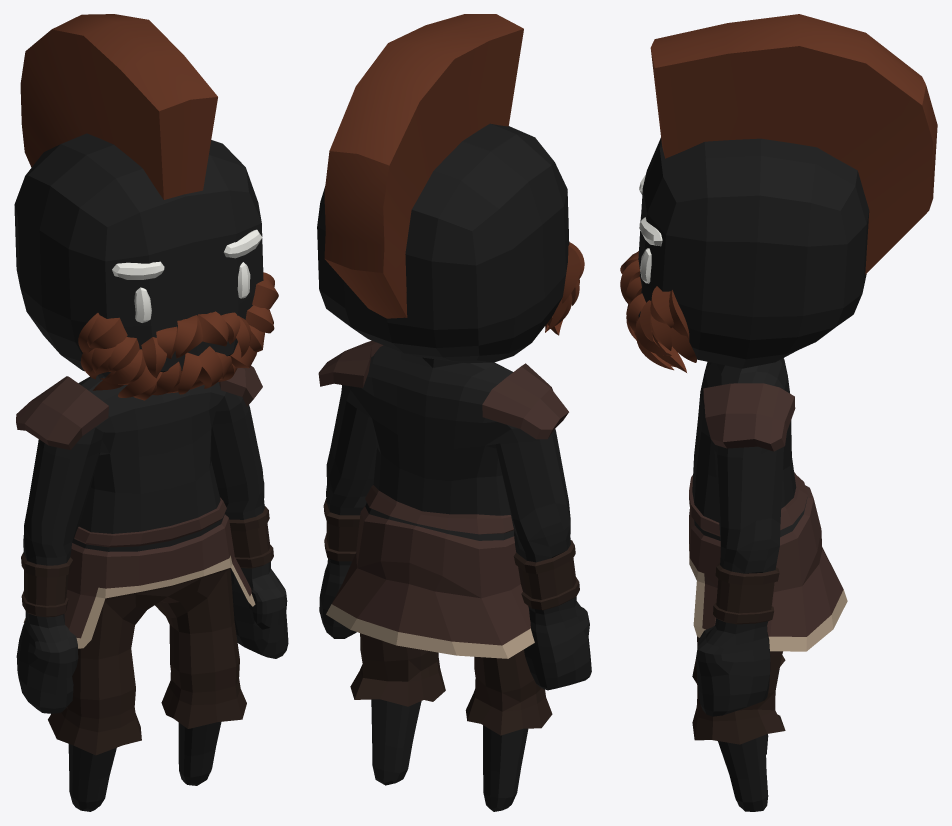
File: Viking_Male.glb
3 views of the same model, side by side, from view 1: azimuth 30°, elevation 25°; view 2: azimuth 150°, elevation 25°; view 3: azimuth 270°, elevation 25° (orthographic).
Visible parts, largest first — view 1: Body_Cube.004; view 2: Body_Cube.004; view 3: Body_Cube.004.
Part boxes in pixels (x1,y1,x2,y2): Body_Cube.004: [14, 14, 288, 811]; Body_Cube.004: [317, 14, 591, 811]; Body_Cube.004: [620, 14, 937, 811].
Size of the model in its own units: 1.29 by 3.6 by 1.36.
